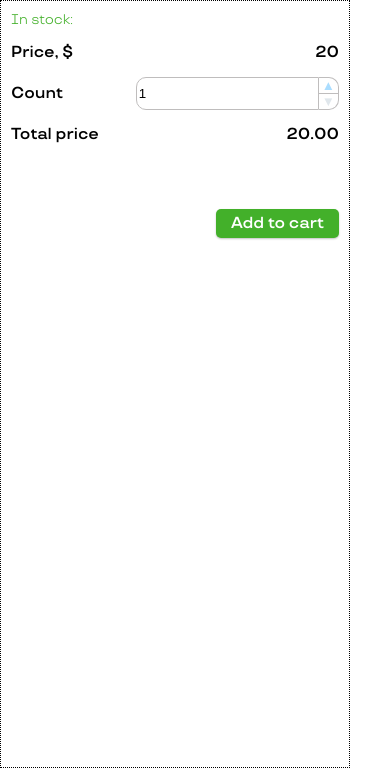
Scenario: Price сounter › should increase by 1
Step 1. Click the button "▲" → (329, 85), box [319,77,339,93]
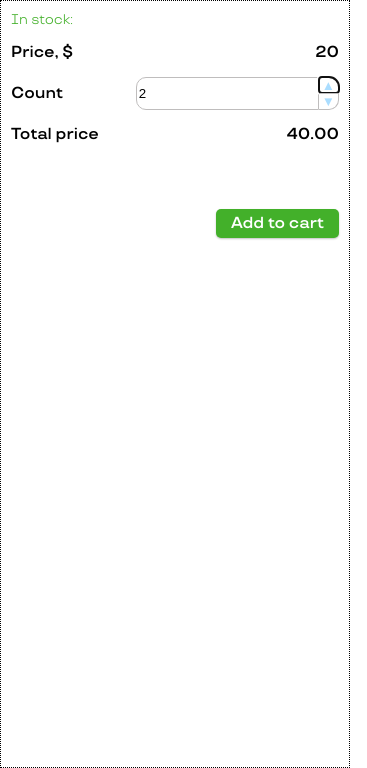
Expected: the number field holds "2", [136,77,319,110]
